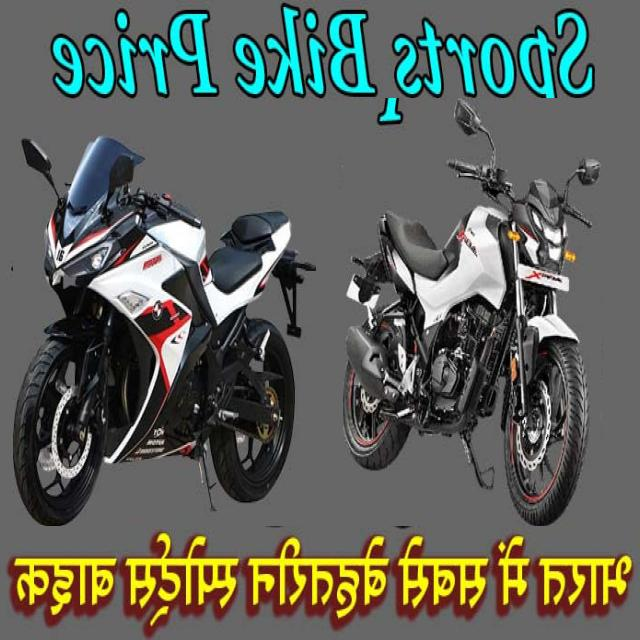motorcycle: (13, 135, 315, 526), (343, 99, 600, 526)
